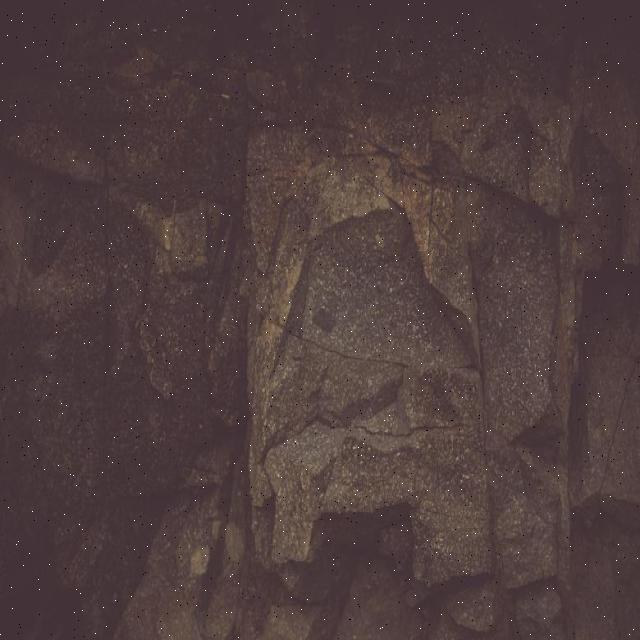Igneous: (240, 2, 504, 616)
